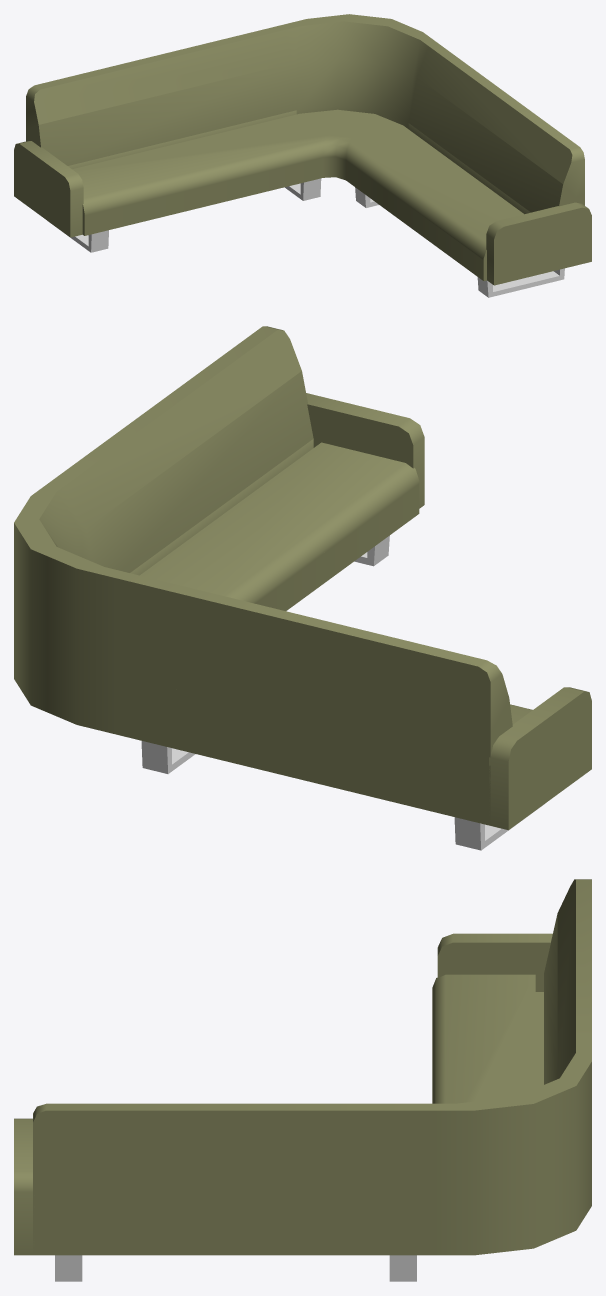
File: green_sofa.glb
3 renders of one model, top to bottom at view 1: azimuth 30°, elevation 25°; view 2: azimuth 150°, elevation 25°; view 3: azimuth 270°, elevation 25°, orthographic. The views are drawn at different scales.
Parts seen in each view (by area): view 1: green soffa; view 2: green soffa; view 3: green soffa.
Part boxes in pixels (x1,y1,x2,y2): green soffa: [14, 14, 591, 297]; green soffa: [14, 326, 591, 850]; green soffa: [14, 879, 591, 1281].
Bounding box in the file's own units: 2.17 × 0.7443 × 2.17.
